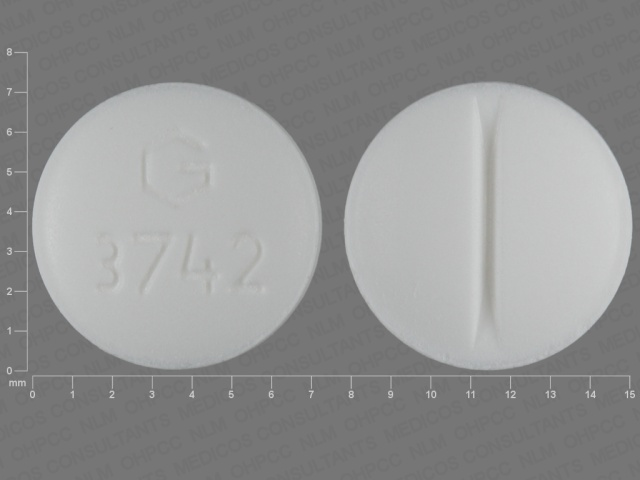2: (226, 229, 274, 301)
3: (90, 228, 126, 293)
4: (175, 230, 225, 298)
7: (128, 230, 175, 292)
G: (135, 125, 231, 206)
|: (469, 75, 508, 373)
